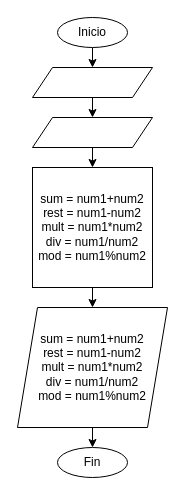
Image size: 185x495. Some labels were removed from this diagram. Here are the shapes that lost their labels. From the top down, the box of each, then its label:
(32, 66, 152, 98): Leer num1
(32, 116, 152, 148): Leer num2
